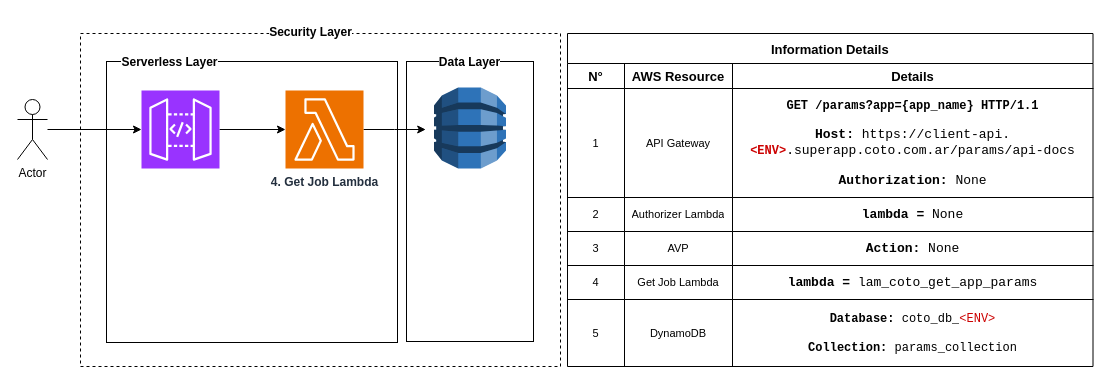
Some shapes in this 1111 by 384 pixel diagram are drawn without their labels. Here are the shapes that lost their labels. From the top down, the centre of each, then its label:
[180,129]: 1. API Gateway
[469,127]: params_collection
